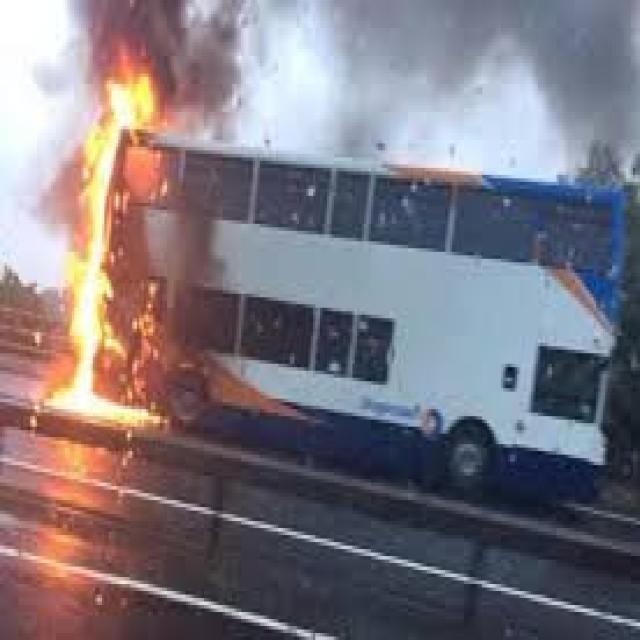Fire: (40, 64, 196, 443)
